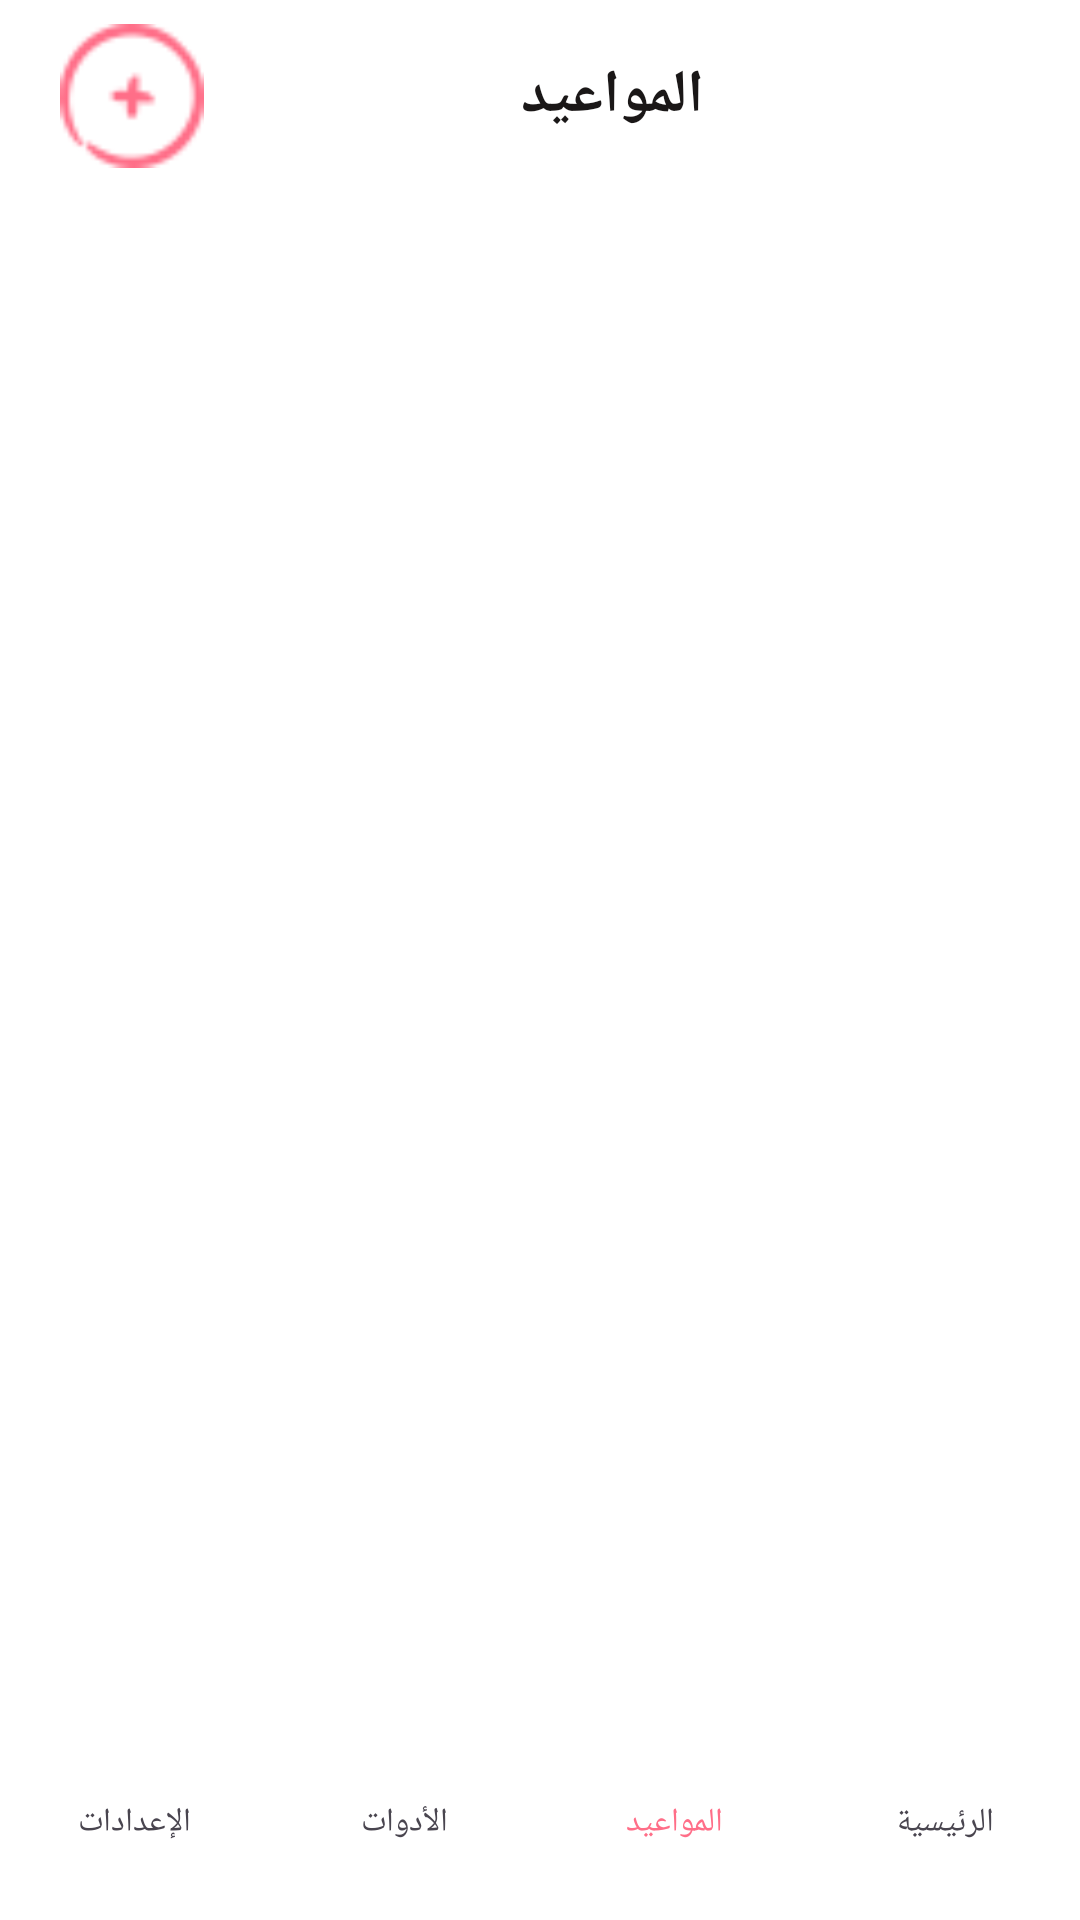

Icon click points for this 1080 x 1920 phone screenshot, format (x,y):
add: (132,96)
